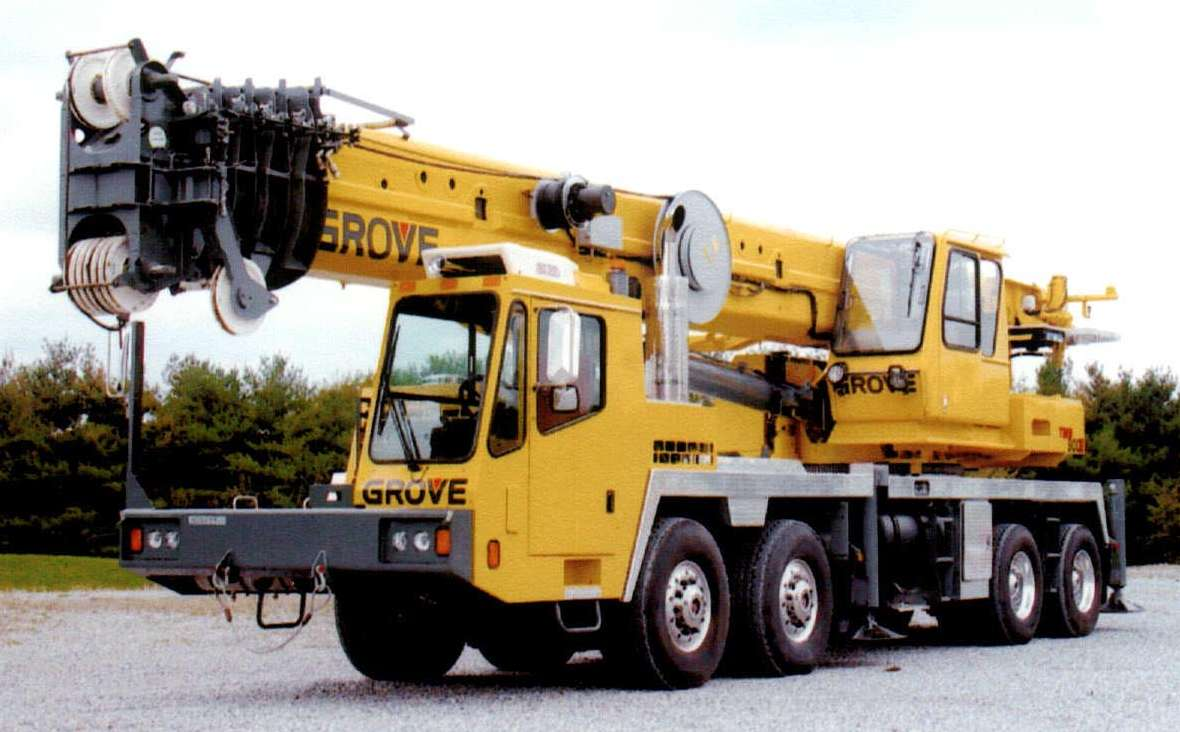crane: (36, 39, 1129, 681)
